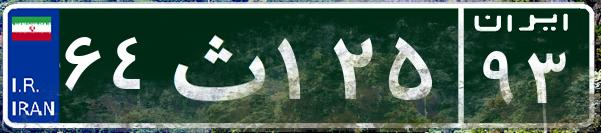1: (273, 28, 330, 110)
2: (330, 28, 385, 110)
3: (525, 38, 570, 115)
4: (110, 28, 158, 105)
5: (385, 28, 445, 110)
6: (57, 26, 110, 107)
9: (475, 38, 525, 113)
ث: (158, 15, 273, 115)
